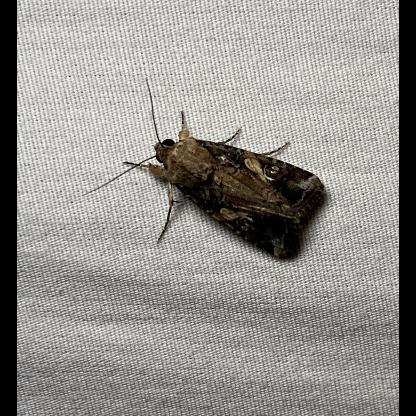Fall Armyworm Moth: (79, 74, 332, 264)
